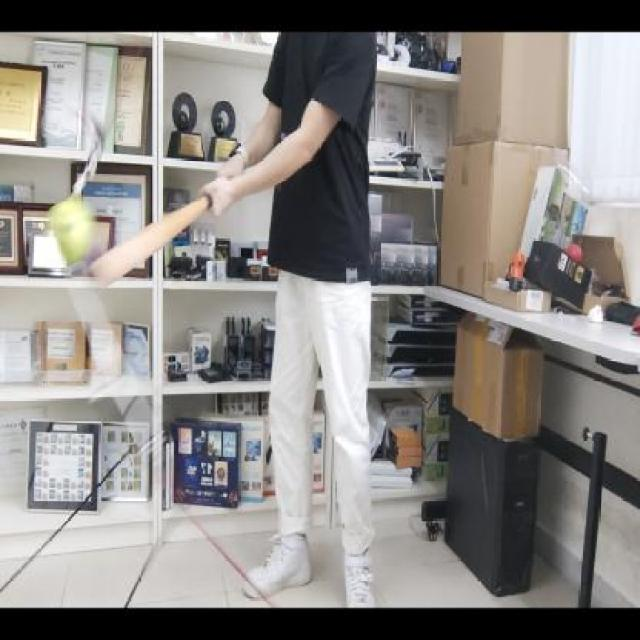baseball: (46, 198, 94, 260)
